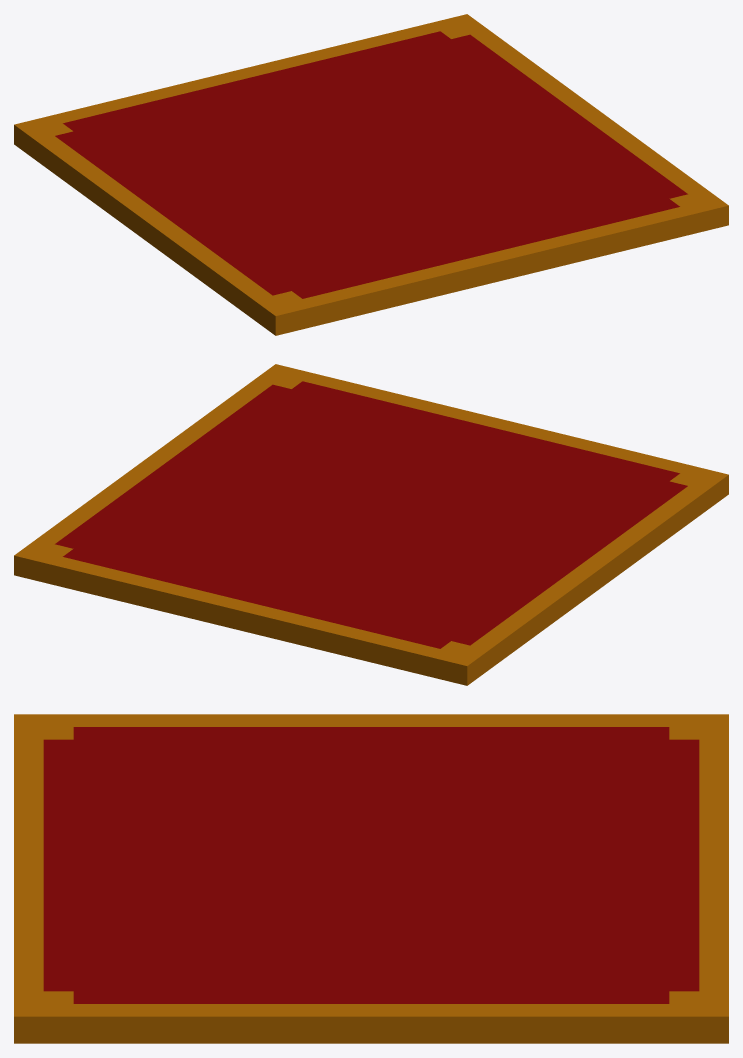
File: square.obj
3 renders of one model, top to bottom at view 1: azimuth 30°, elevation 25°; view 2: azimuth 150°, elevation 25°; view 3: azimuth 270°, elevation 25°, orthographic. The views are drawn at different scales.
Size of the model in its own units: 24 by 1 by 24.
1 material, 1 textured.
